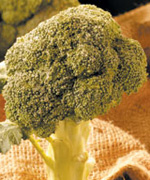broccoli: (0, 4, 149, 179)
